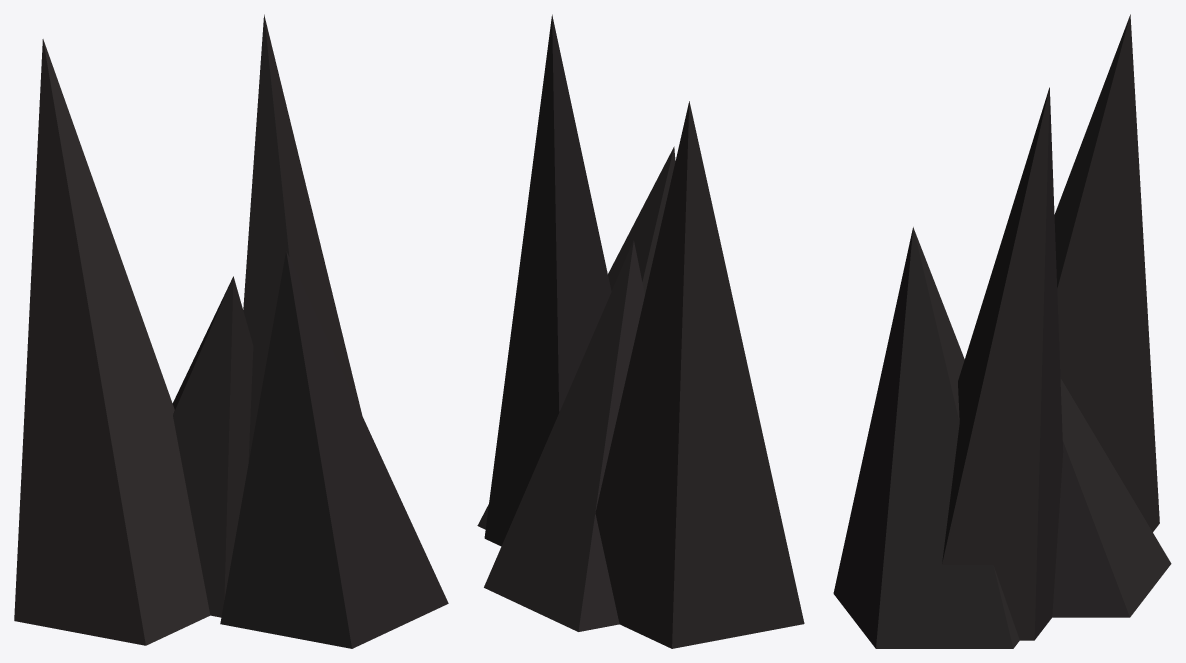
The model's file is ash_spire.glb.
3 renders of one model, left to right at view 1: azimuth 30°, elevation 25°; view 2: azimuth 150°, elevation 25°; view 3: azimuth 270°, elevation 25°, orthographic. The views are drawn at different scales.
Parts seen in each view (by area): view 1: ash_spire; view 2: ash_spire; view 3: ash_spire.
Part boxes in pixels (x1,y1,x2,y2): ash_spire: [14, 14, 448, 648]; ash_spire: [477, 14, 804, 648]; ash_spire: [833, 14, 1171, 648].
Bounding box in the file's own units: 1.37 × 2.08 × 1.23.
Materials: 1 (1 with a texture image).
